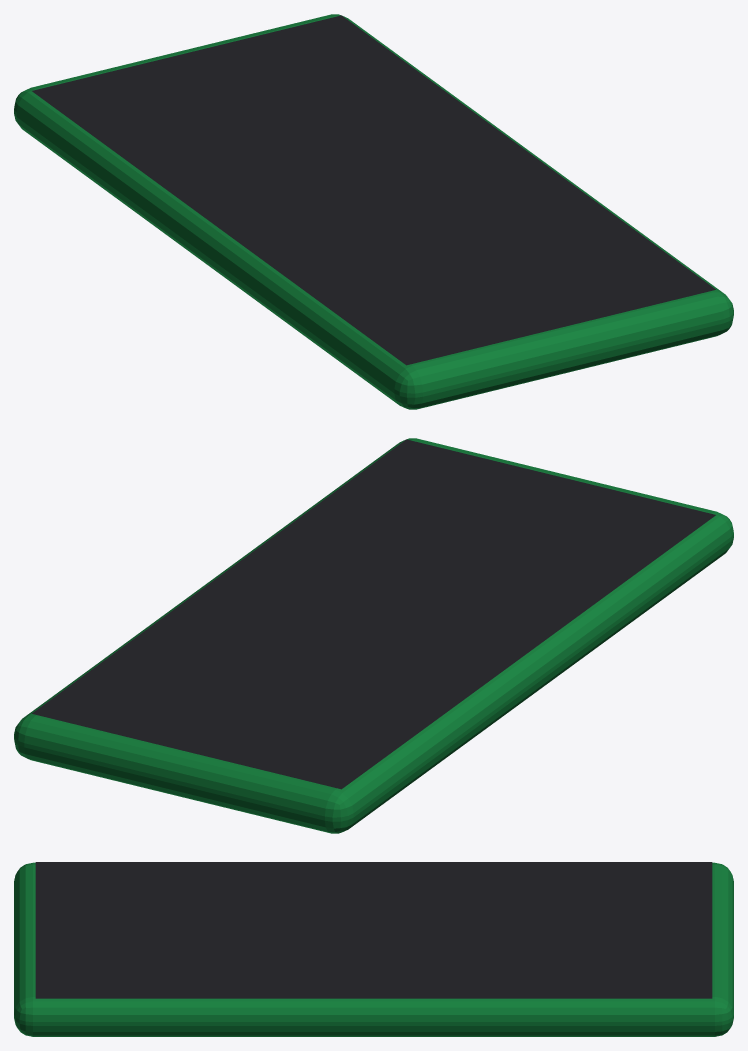
Rendered from motorola-moto-g-model-131-mid-range-2022.glb.
3 renders of one model, top to bottom at view 1: azimuth 30°, elevation 25°; view 2: azimuth 150°, elevation 25°; view 3: azimuth 270°, elevation 25°, orthographic. The views are drawn at different scales.
Visible parts, largest first — view 1: Phone_Screen, Phone_Body; view 2: Phone_Screen, Phone_Body; view 3: Phone_Screen, Phone_Body.
Boxes of the visible parts, bbox=[...] form: Phone_Screen: bbox=[32, 15, 715, 365]; Phone_Body: bbox=[14, 14, 733, 409]; Phone_Screen: bbox=[32, 439, 715, 789]; Phone_Body: bbox=[14, 438, 733, 833]; Phone_Screen: bbox=[35, 862, 712, 998]; Phone_Body: bbox=[14, 862, 733, 1036].
Size of the model in its own units: 0.0783 by 0.0095 by 0.1605.
